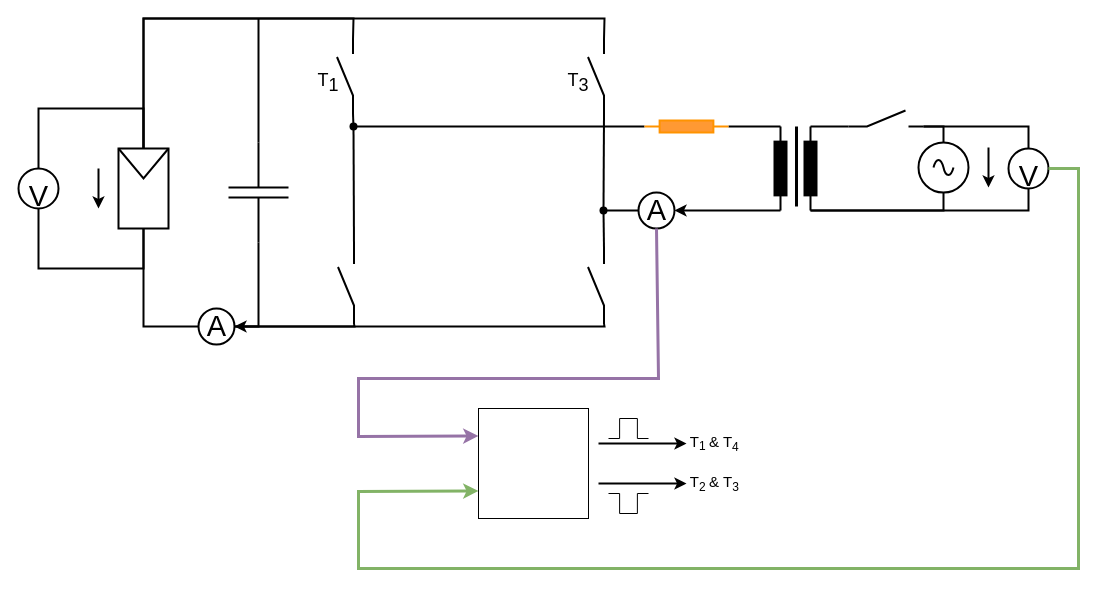
This 1105x595 diagram has some shape labels left out. The shapes that lost their labels are listed below. From the top down, each one's box as (x1, y1, x2, y2) in pixels, then its label:
(336, 248, 354, 324): T 2
(586, 248, 604, 324): T 4
(478, 408, 588, 518): Toleranzbandregler
